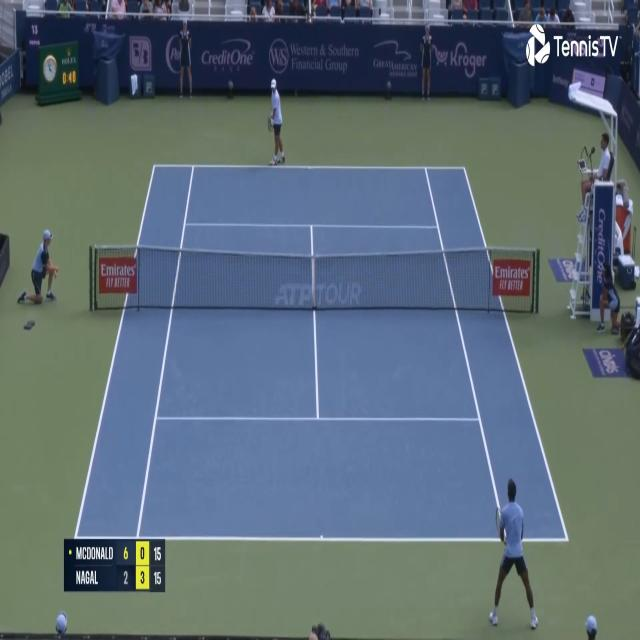tennis-player: (486, 473, 543, 635), (266, 75, 287, 170)
